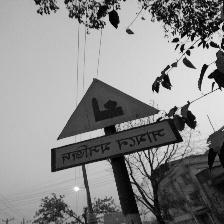Mosque in front: (52, 77, 194, 174)
